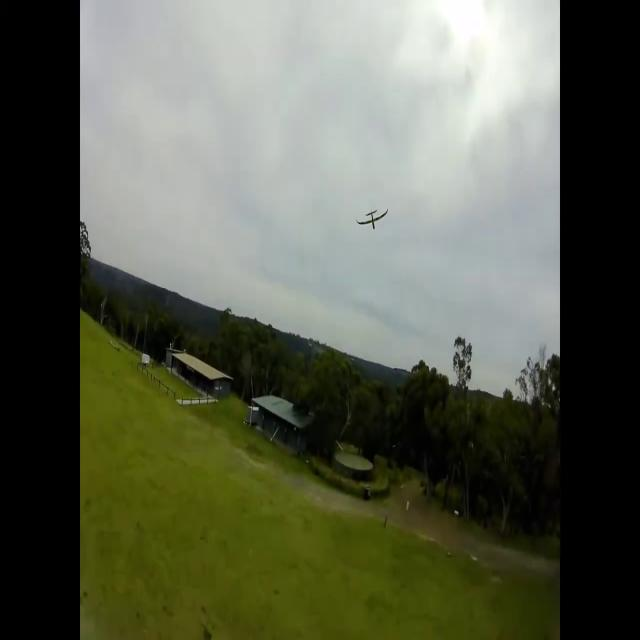iha: (358, 209, 388, 230)
